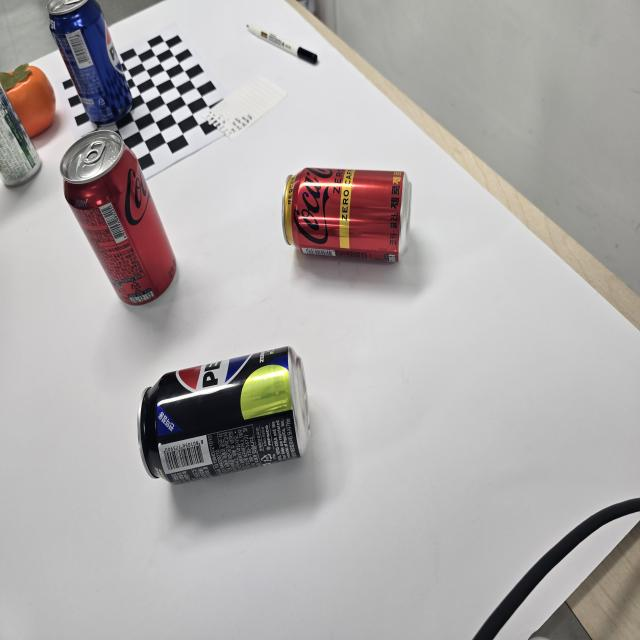can_coke_decaf: (277, 166, 413, 259)
can_coke_zero: (55, 131, 181, 314)
can_pepsi: (46, 0, 138, 129)
can_pepsi_zero: (134, 339, 313, 489)
